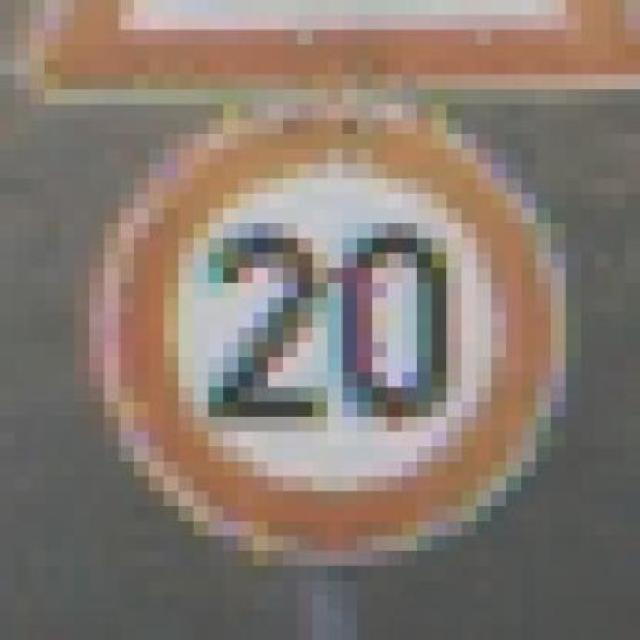forb_speed_over_20: (125, 105, 566, 550)
